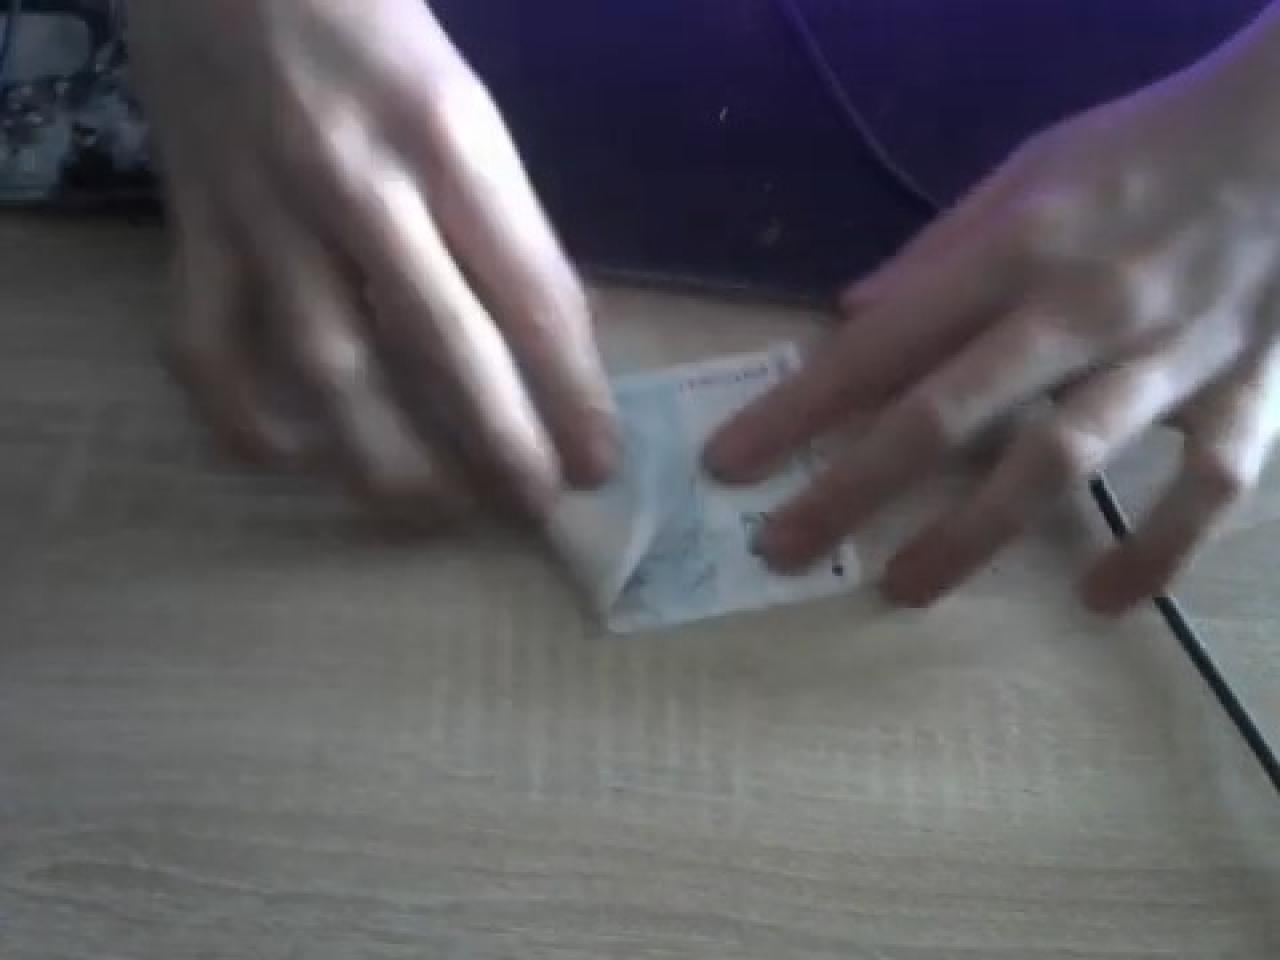20leva: (184, 0, 648, 621)
